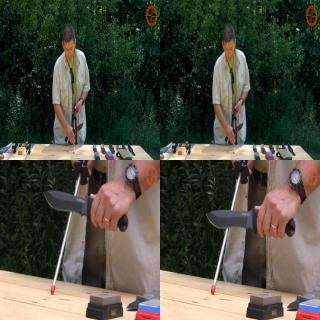knife: (40, 186, 130, 234), (204, 197, 296, 241), (224, 121, 244, 143), (64, 121, 84, 142)
